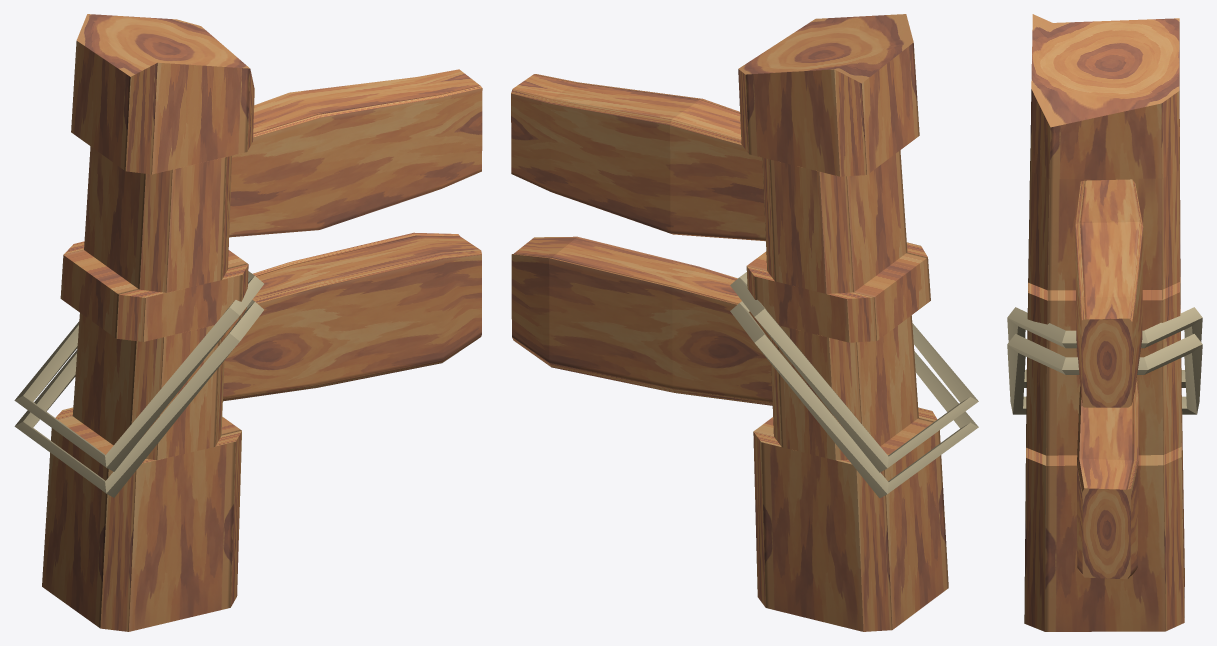
File: fence_w_80_c.glb
3 views of the same model, side by side, from view 1: azimuth 30°, elevation 25°; view 2: azimuth 150°, elevation 25°; view 3: azimuth 270°, elevation 25° (orthographic). The views are drawn at different scales.
Parts seen in each view (by area): view 1: fence_w_80_c; view 2: fence_w_80_c; view 3: fence_w_80_c.
Part boxes in pixels (x1,y1,x2,y2): fence_w_80_c: (14, 14, 482, 631); fence_w_80_c: (511, 14, 978, 631); fence_w_80_c: (1007, 14, 1202, 631).
Size of the model in its own units: 0.9954 by 1.29 by 0.3989.
1 material, 1 textured.
